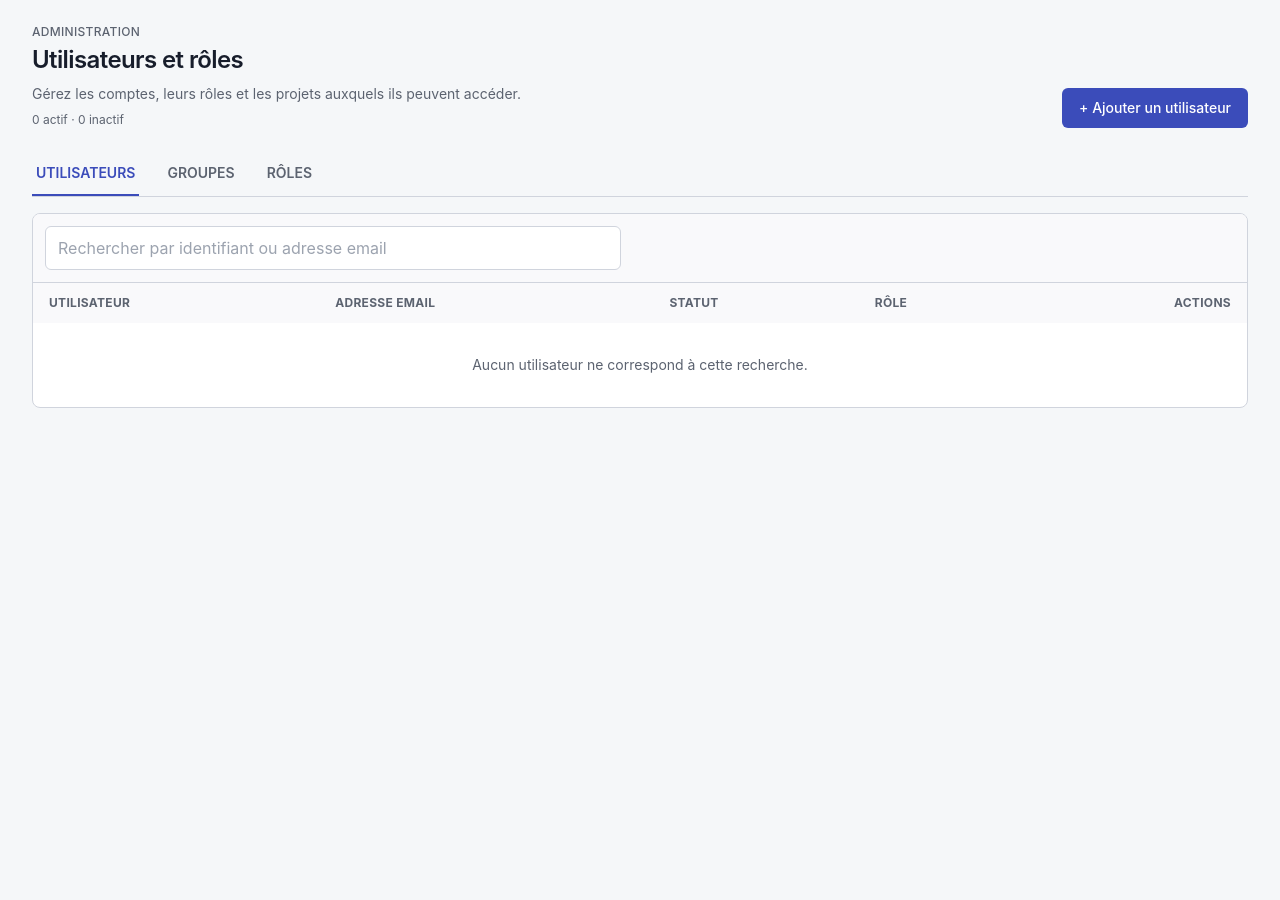
Test: Utilisateurs — mot de passe initial facultatif › affiche le mot de passe temporaire QUAND aucun email n'a pu partir
Click the button "+ Ajouter un utilisateur": (1155, 108) [1062,88,1248,128]
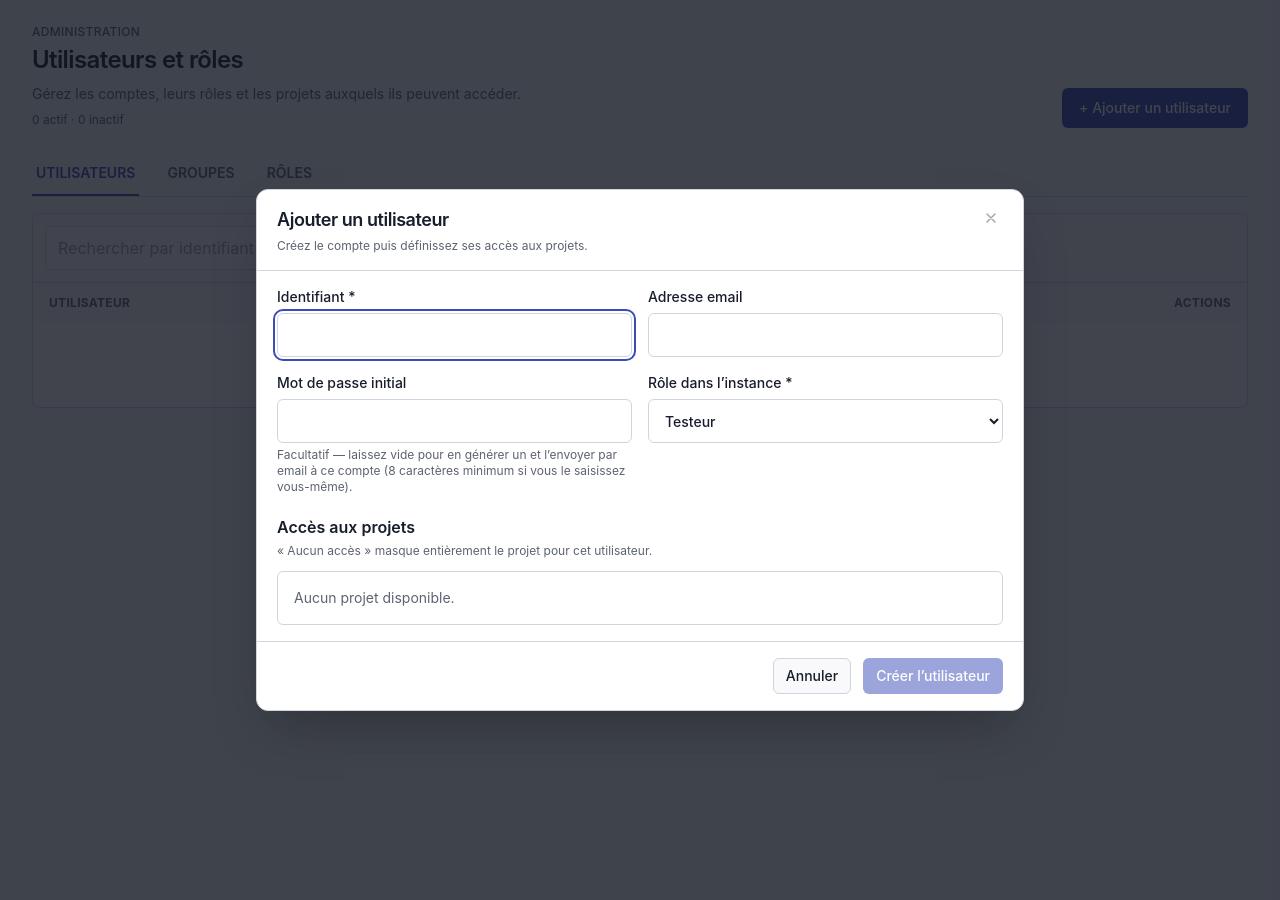
In the field named "username": (454, 335) [277,313,632,357], type "leo"
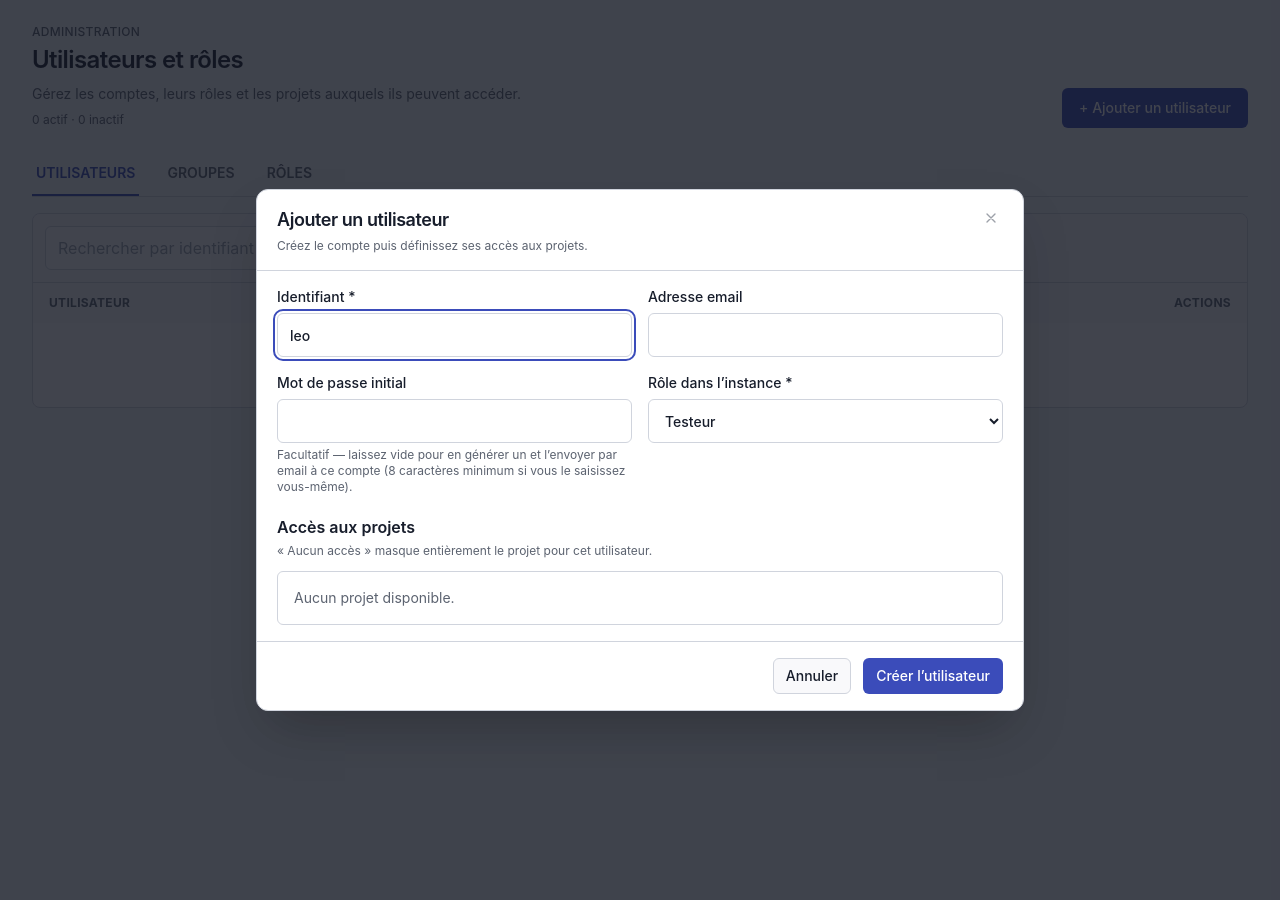
Submit the form with id "create-user", box [277,287,1003,625]
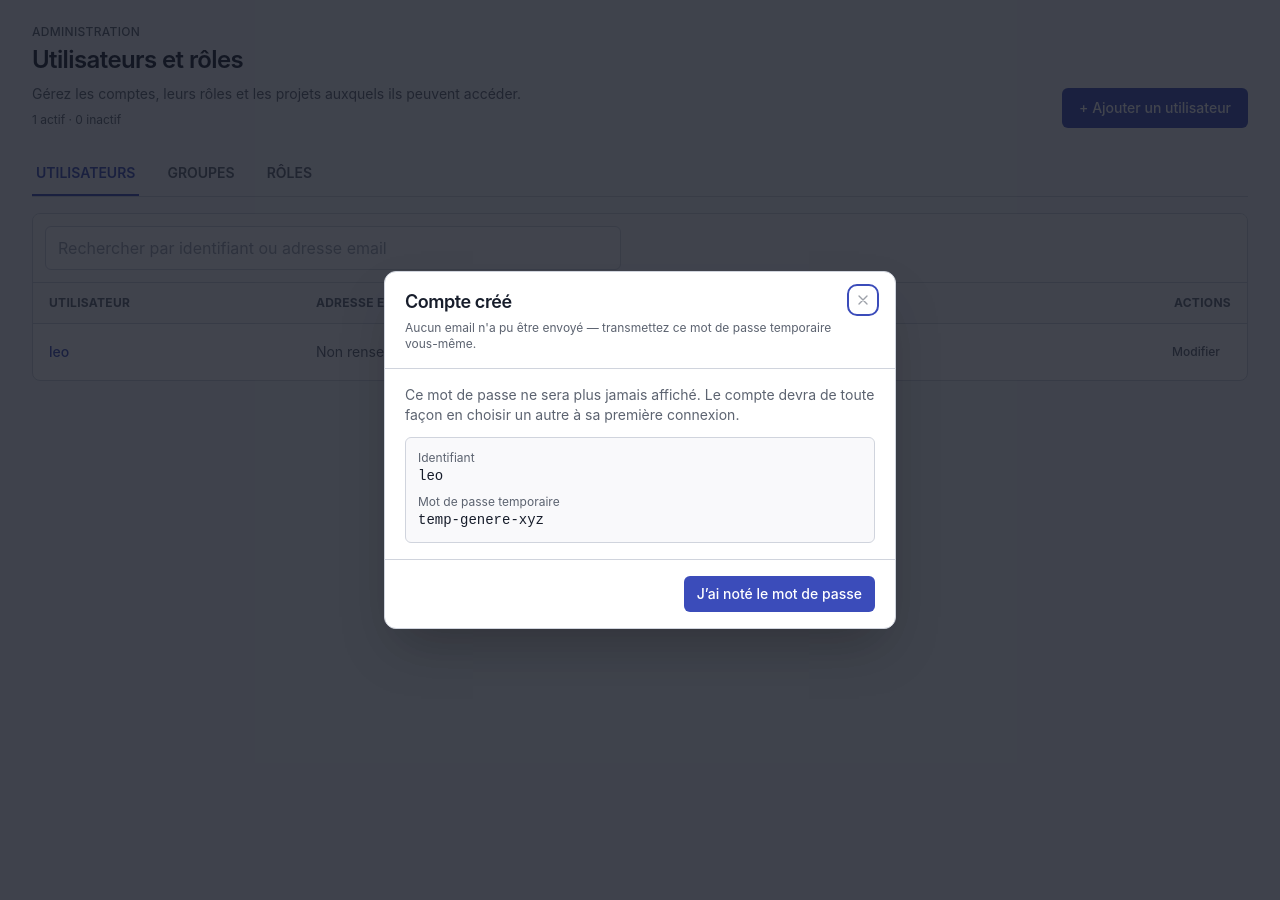
Check: the text "temp-genere-xyz" is shown, box [418,512,544,528]
